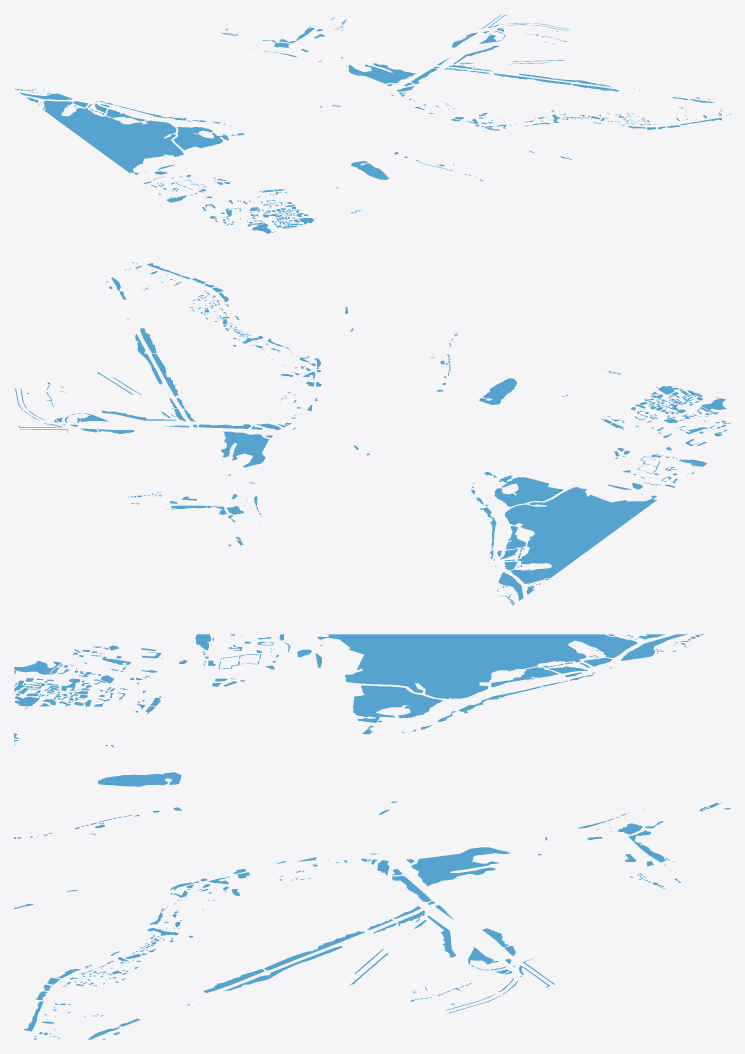
The model's file is SM_Lakes_Hanoi_01.fbx.
3 renders of one model, top to bottom at view 1: azimuth 30°, elevation 25°; view 2: azimuth 150°, elevation 25°; view 3: azimuth 270°, elevation 25°, orthographic. The views are drawn at different scales.
Parts seen in each view (by area): view 1: Lakes; view 2: Lakes; view 3: Lakes.
Boxes of the visible parts, left/top/right/bottom form: Lakes: left=14, top=14, right=730, bottom=233; Lakes: left=14, top=262, right=730, bottom=605; Lakes: left=14, top=634, right=730, bottom=1039.
Bounding box in the file's own units: 718775 × 0 × 537330.
